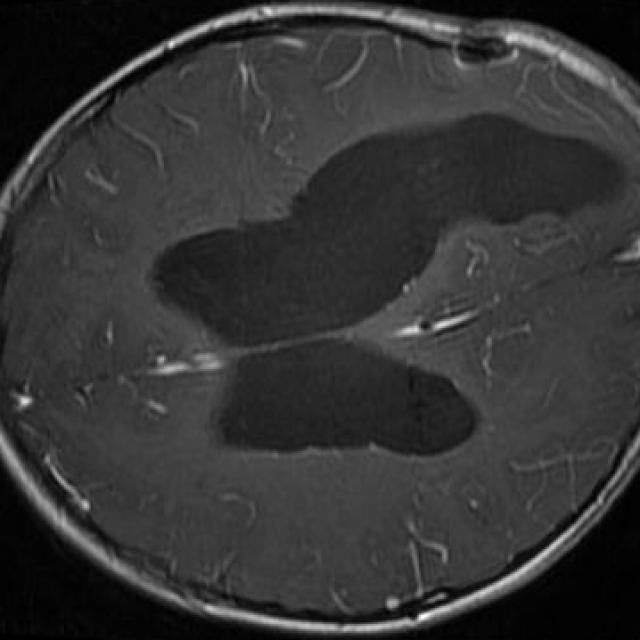glioma: (292, 114, 635, 314)
